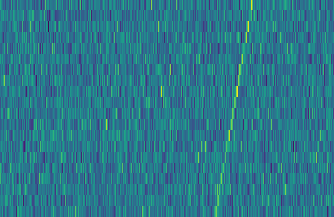signal: (211, 0, 259, 217)
